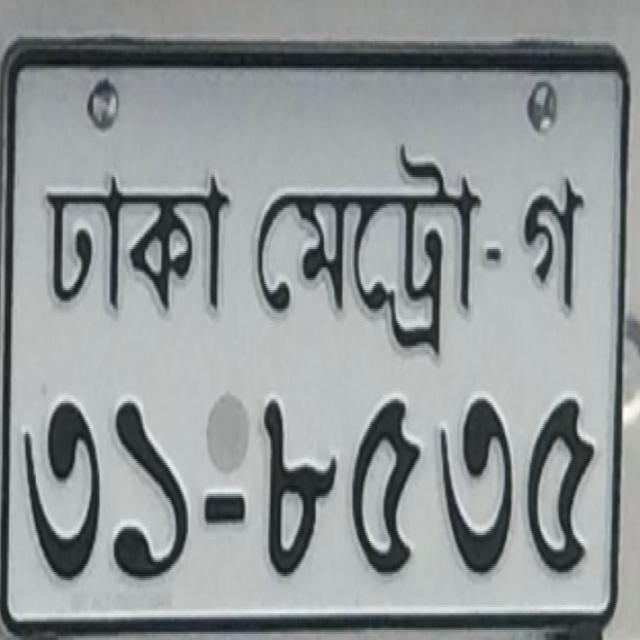cng: (254, 142, 482, 356)
numberplate: (0, 33, 629, 636)
